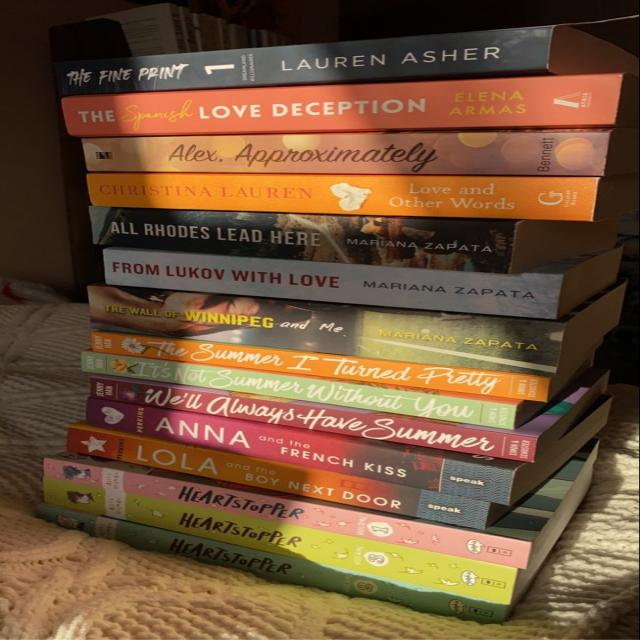book: (43, 478, 517, 603), (35, 505, 509, 626), (42, 459, 534, 569), (88, 397, 517, 505), (86, 285, 566, 377), (67, 427, 491, 530), (91, 378, 540, 463), (59, 75, 623, 136), (57, 26, 553, 95), (80, 352, 517, 430), (91, 332, 551, 402), (101, 250, 564, 319), (88, 207, 518, 274), (87, 174, 599, 220), (82, 133, 610, 176)
